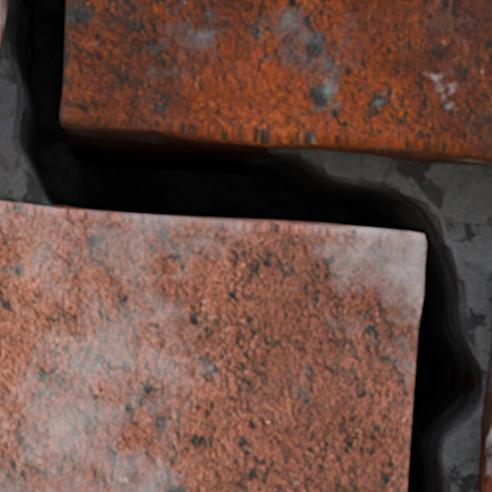brick: (0, 201, 425, 491), (61, 0, 491, 165), (479, 344, 491, 491), (0, 0, 6, 44)
crack: (0, 0, 489, 491)
